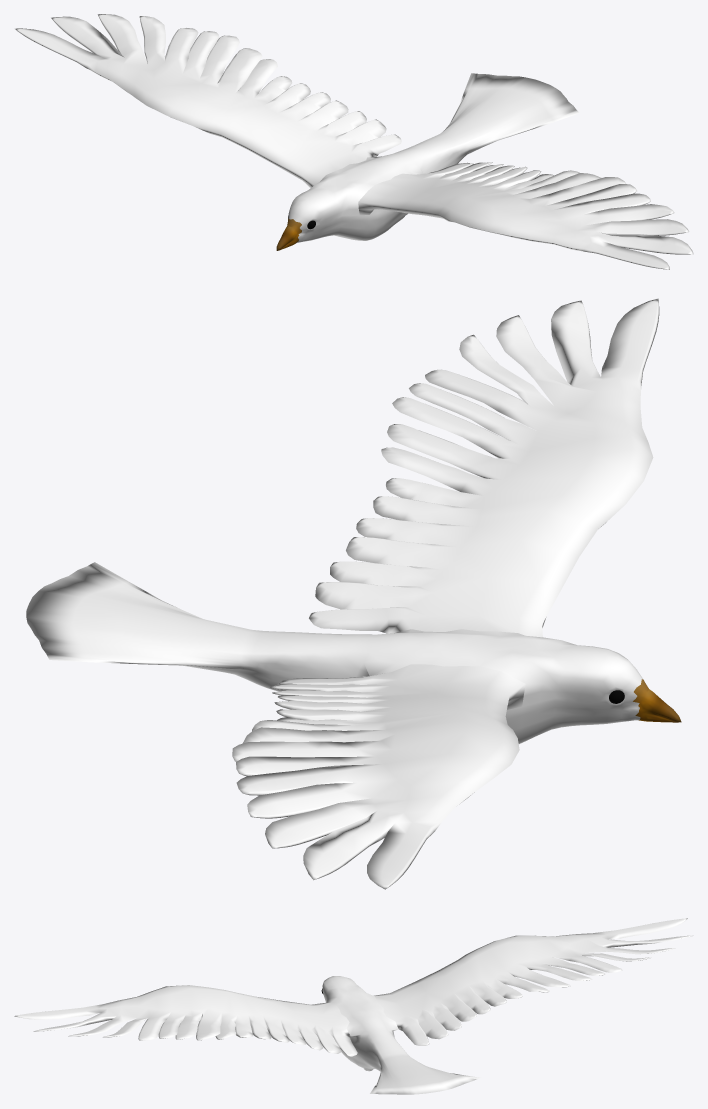
File: dove2.obj
3 renders of one model, top to bottom at view 1: azimuth 30°, elevation 25°; view 2: azimuth 150°, elevation 25°; view 3: azimuth 270°, elevation 25°, orthographic. The views are drawn at different scales.
Visible parts, largest first — view 1: DOVE:dove_eye1; view 2: DOVE:dove_eye1; view 3: DOVE:dove_eye1.
Boxes of the visible parts, box(x1,y1,x2,y2) form: DOVE:dove_eye1: box(14, 14, 693, 269); DOVE:dove_eye1: box(26, 298, 681, 889); DOVE:dove_eye1: box(14, 918, 693, 1094).
Bounding box in the file's own units: 0.4027 × 0.1034 × 0.7667.
Materials: 2 (1 with a texture image).
